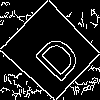D: (26, 26, 84, 84)
